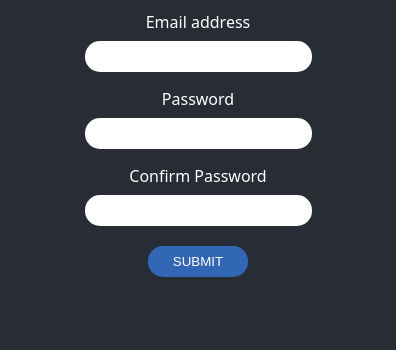
Test: App › Password Input › should show error message if password is less than 5 characters
Expected: the text "the password must be at least 5 characters long" is not shown
In the field labelled "Email address": (198, 56) top-left (84, 41), bottom-right (312, 72), type "name@email.com"
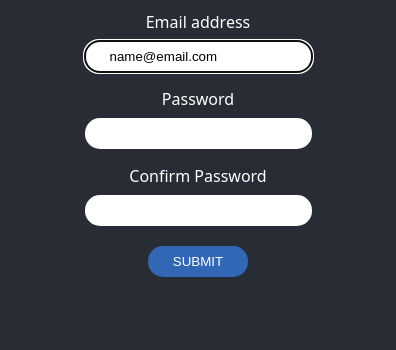
In the password field labelled "Password": (198, 134) top-left (84, 118), bottom-right (312, 149), type "11"
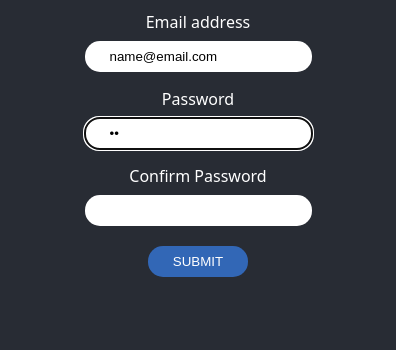
Click the button "Submit": (198, 262) top-left (148, 246), bottom-right (248, 277)
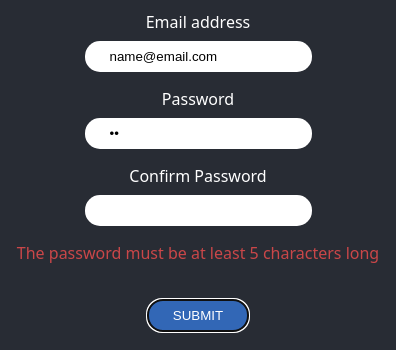
Now the text "The password must be at least 5 characters long" is shown, box top-left (17, 242), bottom-right (379, 264)
